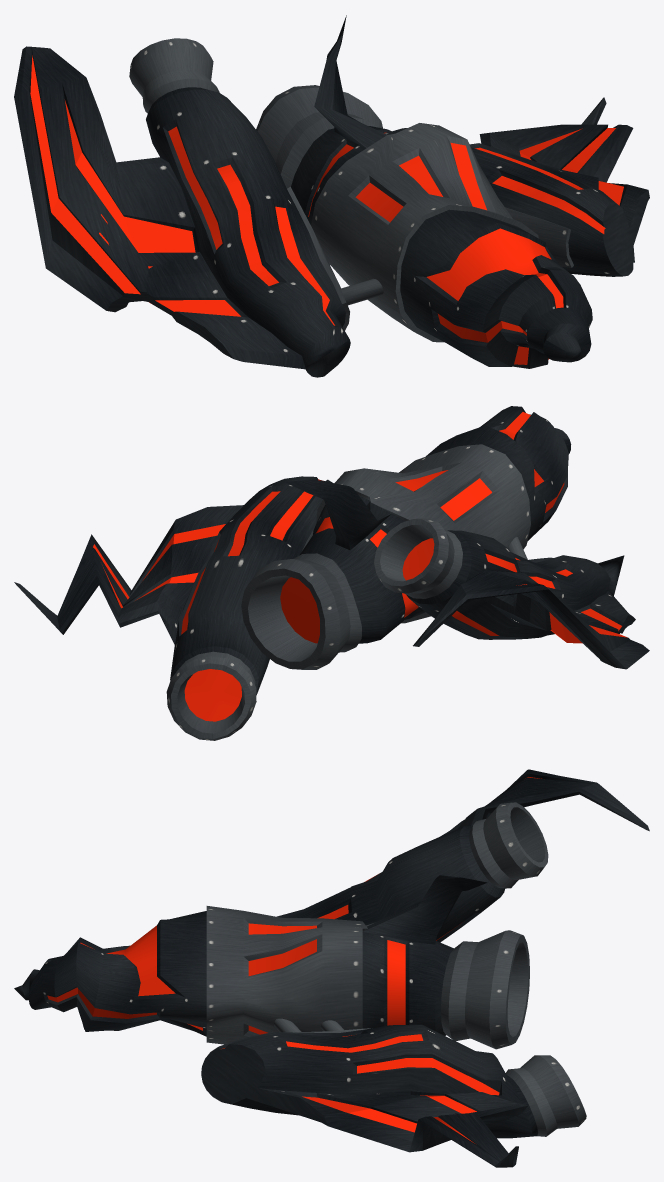
Rendered from Bloaty_20.fbx.
3 views of the same model, one above another, from view 1: azimuth 30°, elevation 25°; view 2: azimuth 150°, elevation 25°; view 3: azimuth 270°, elevation 25° (orthographic). The views are drawn at different scales.
Parts seen in each view (by area): view 1: rightBooster, Boaty_20, leftBooster1, polySurface12; view 2: Boaty_20, leftBooster1, rightBooster; view 3: Boaty_20, leftBooster1, rightBooster.
Part boxes in pixels (x1=…): rightBooster: x1=14, y1=38, x2=350, y2=377; Boaty_20: x1=256, y1=15, x2=592, y2=368; leftBooster1: x1=470, y1=97, x2=649, y2=276; polySurface12: x1=341, y1=278, x2=383, y2=305; Boaty_20: x1=241, y1=406, x2=571, y2=669; leftBooster1: x1=14, y1=476, x2=332, y2=740; rightBooster: x1=374, y1=518, x2=649, y2=669; Boaty_20: x1=14, y1=875, x2=529, y2=1049; leftBooster1: x1=201, y1=1024, x2=586, y2=1167; rightBooster: x1=277, y1=769, x2=649, y2=942.
Bounding box in the file's own units: 40.64 × 16.93 × 41.21.
